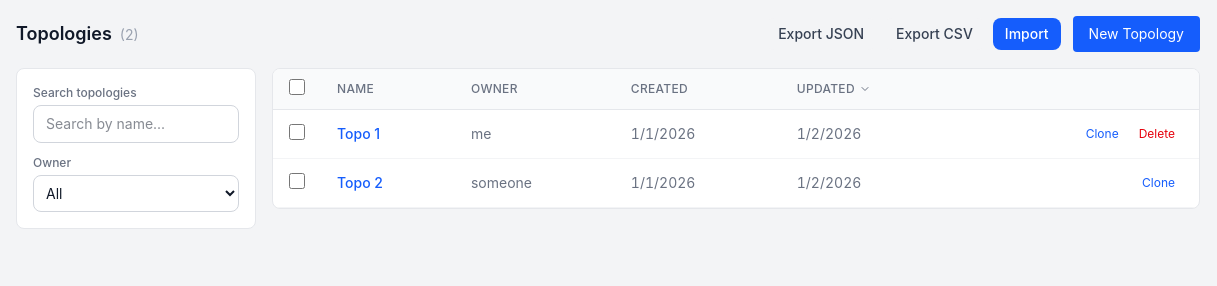
Scenario: delete gate and bulk delete (issue #958) › the row Delete and the bulk eligibility share one rule: a non-admin non-owner gets neither
Expected: the text "Topo 1" is shown, [321,110,455,158]
Expected: the button with aria-label "Delete topology Topo 1" is shown, [1131,122,1183,146]
Click the checkbox named "Select topology Topo 2": [297, 181] box [289,173,305,189]
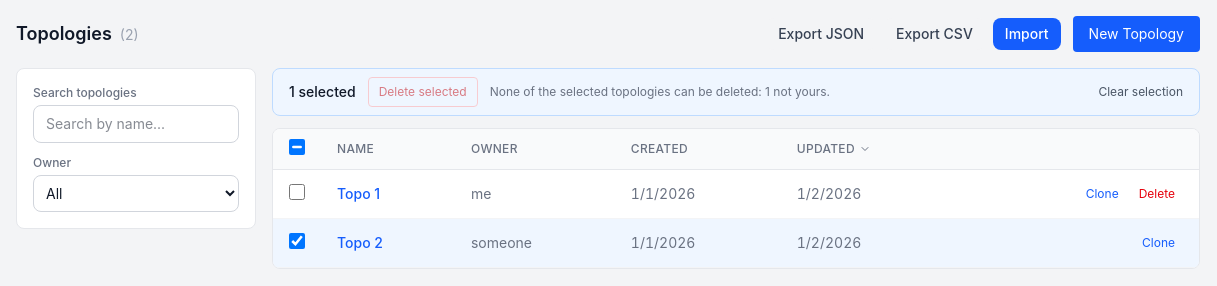
Now the button "Delete selected" is disabled, box [368,77,478,107]
